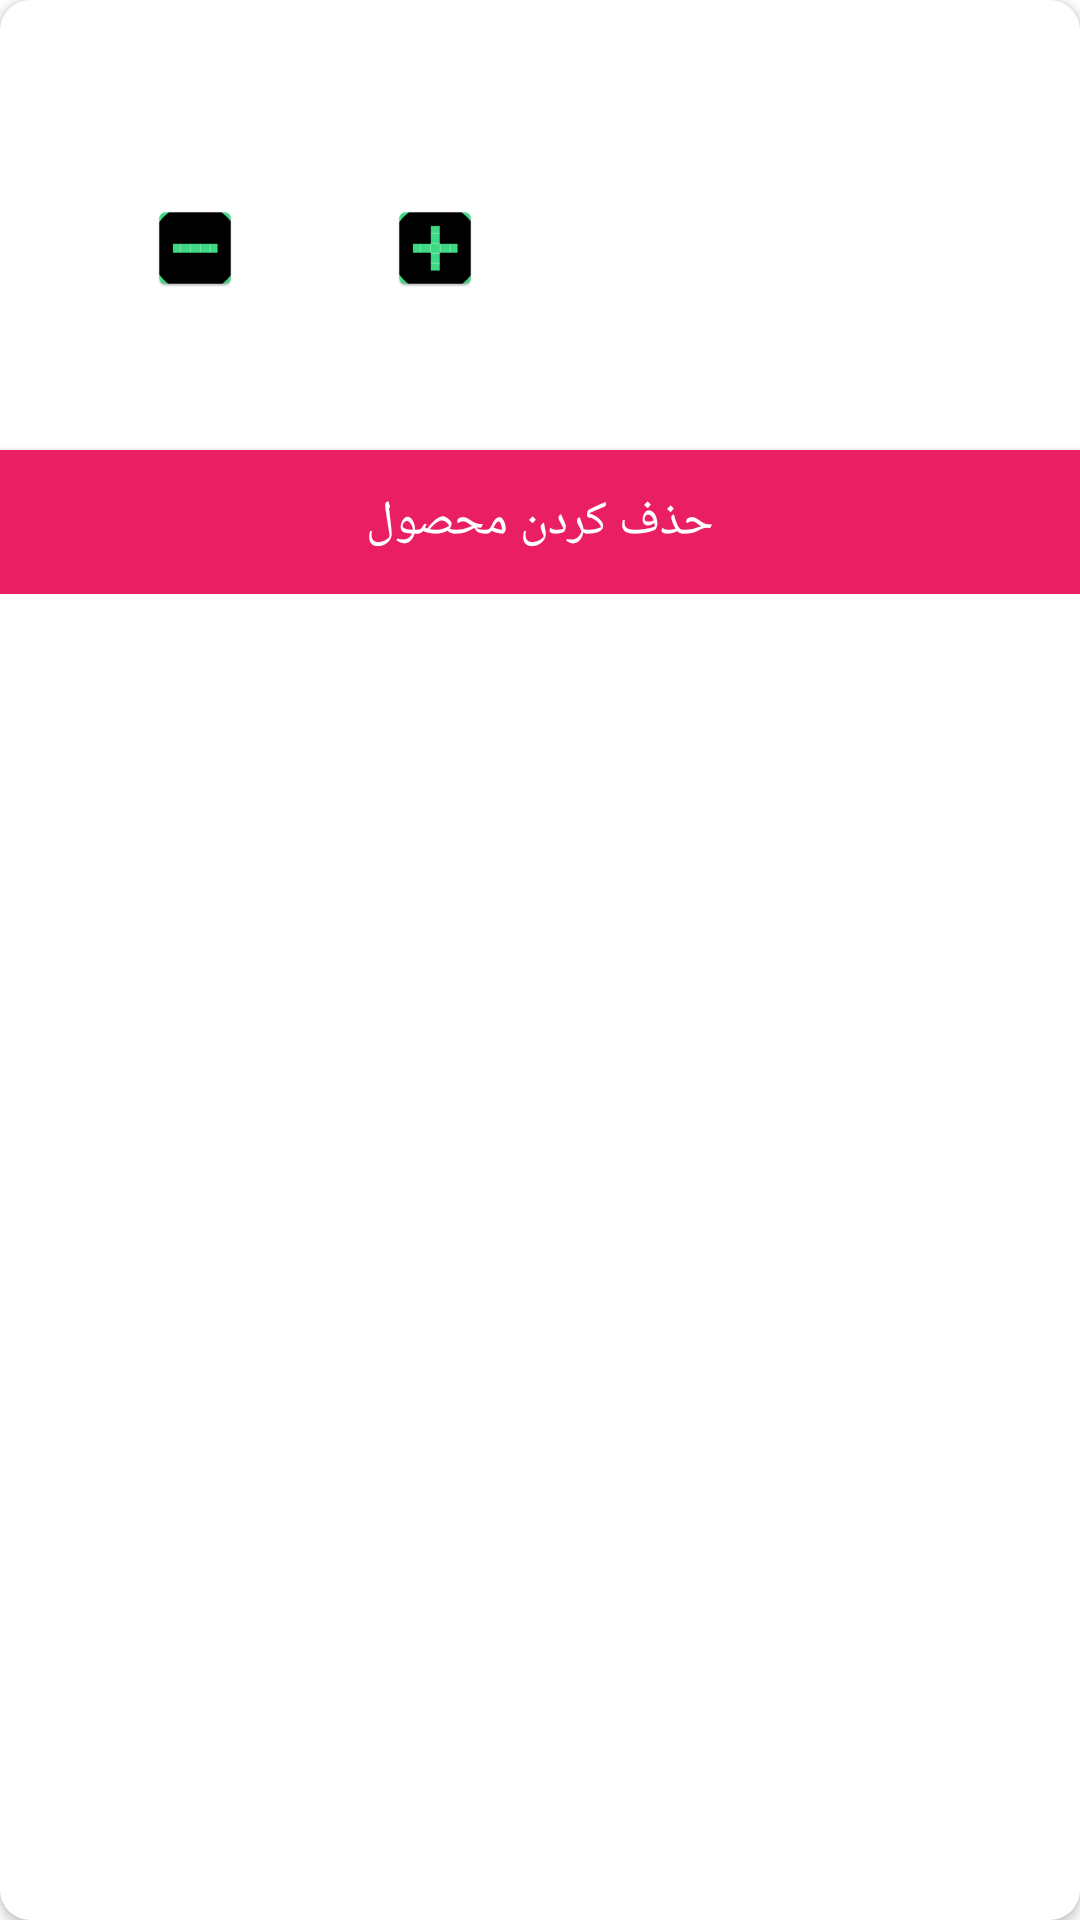

Icon bounding boxes for this 1080w x 1920h phone screenshot, format (x1, y1, x2, y2):
add: (399, 212, 471, 286)
remove: (159, 212, 231, 286)
